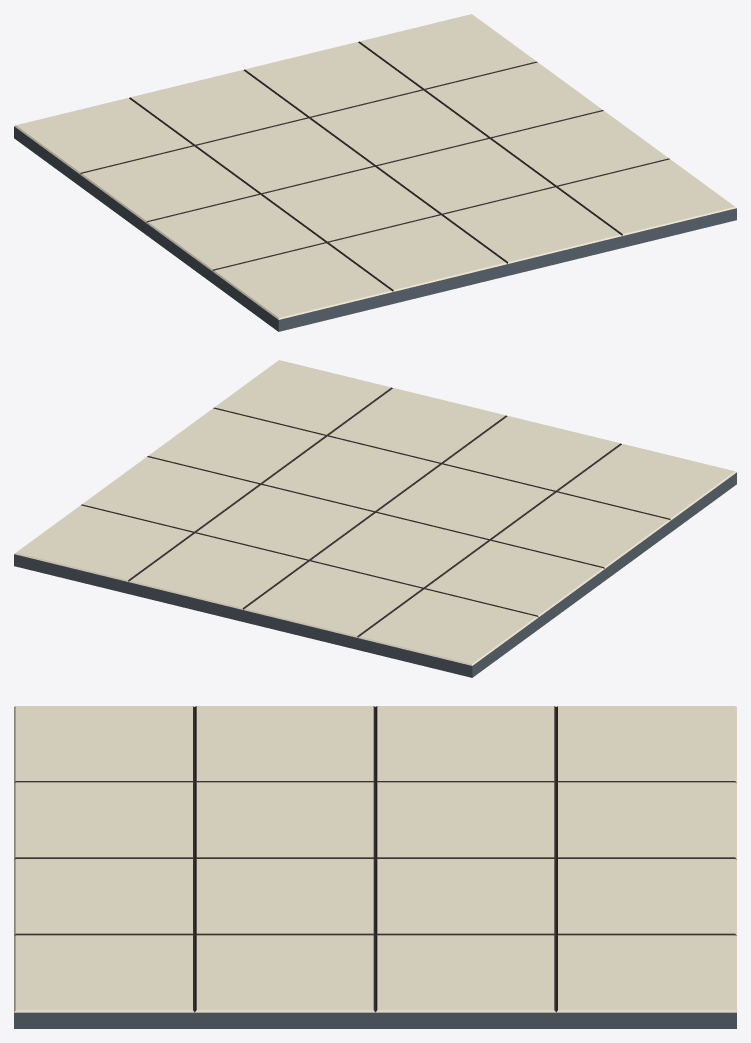
Rendered from Floor_1B.fbx.
The picture shows the model from 3 angles, top to bottom: view 1: azimuth 30°, elevation 25°; view 2: azimuth 150°, elevation 25°; view 3: azimuth 270°, elevation 25°; orthographic projection. The views are drawn at different scales.
Parts seen in each view (by area): view 1: pCube814; view 2: pCube814; view 3: pCube814.
Part boxes in pixels (left/top/right/bottom): pCube814: left=14, top=14, right=736, bottom=331; pCube814: left=14, top=360, right=736, bottom=677; pCube814: left=14, top=706, right=736, bottom=1028.
Bounding box in the file's own units: 4 × 0.11 × 4.
1 material, 1 textured.
